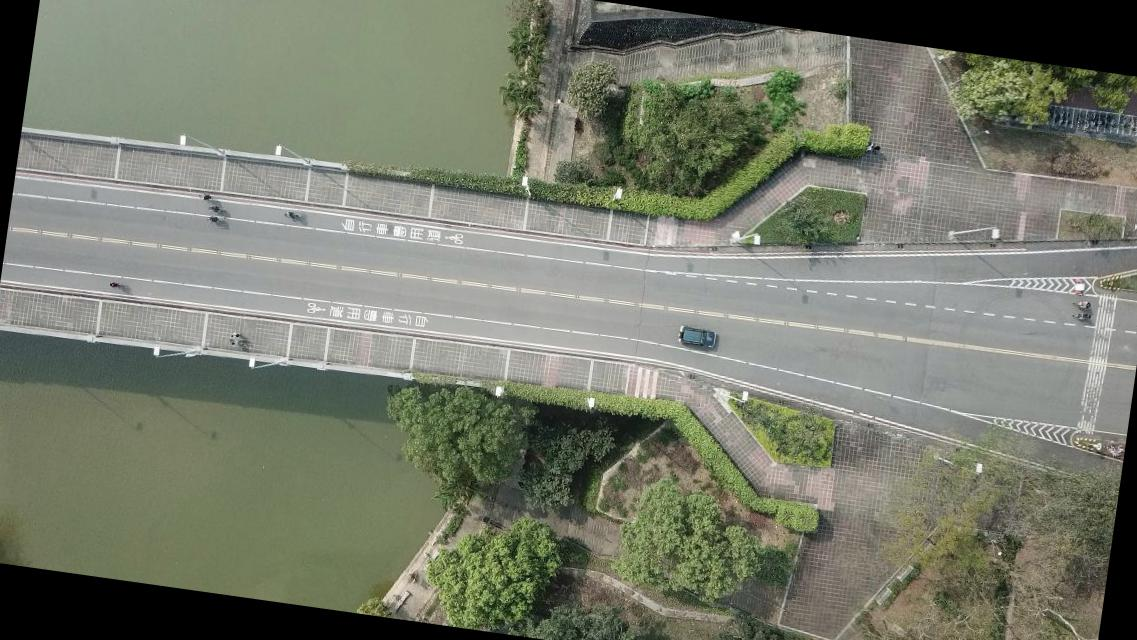vehicle: (676, 326, 717, 350)
